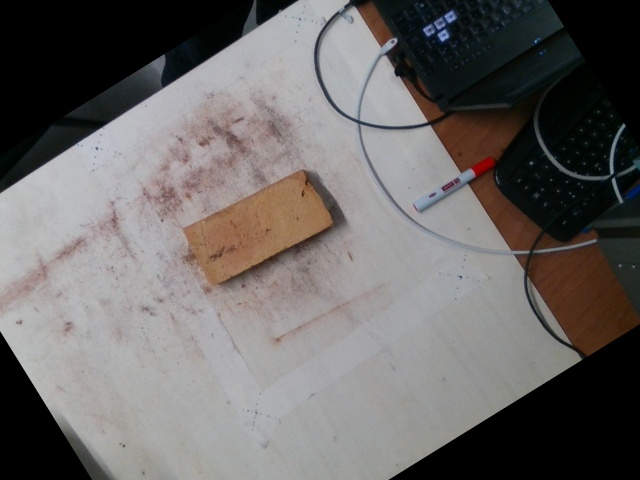brick: (185, 167, 332, 283)
